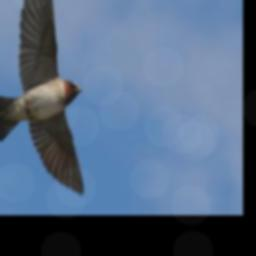Swallow: (0, 0, 85, 194)
